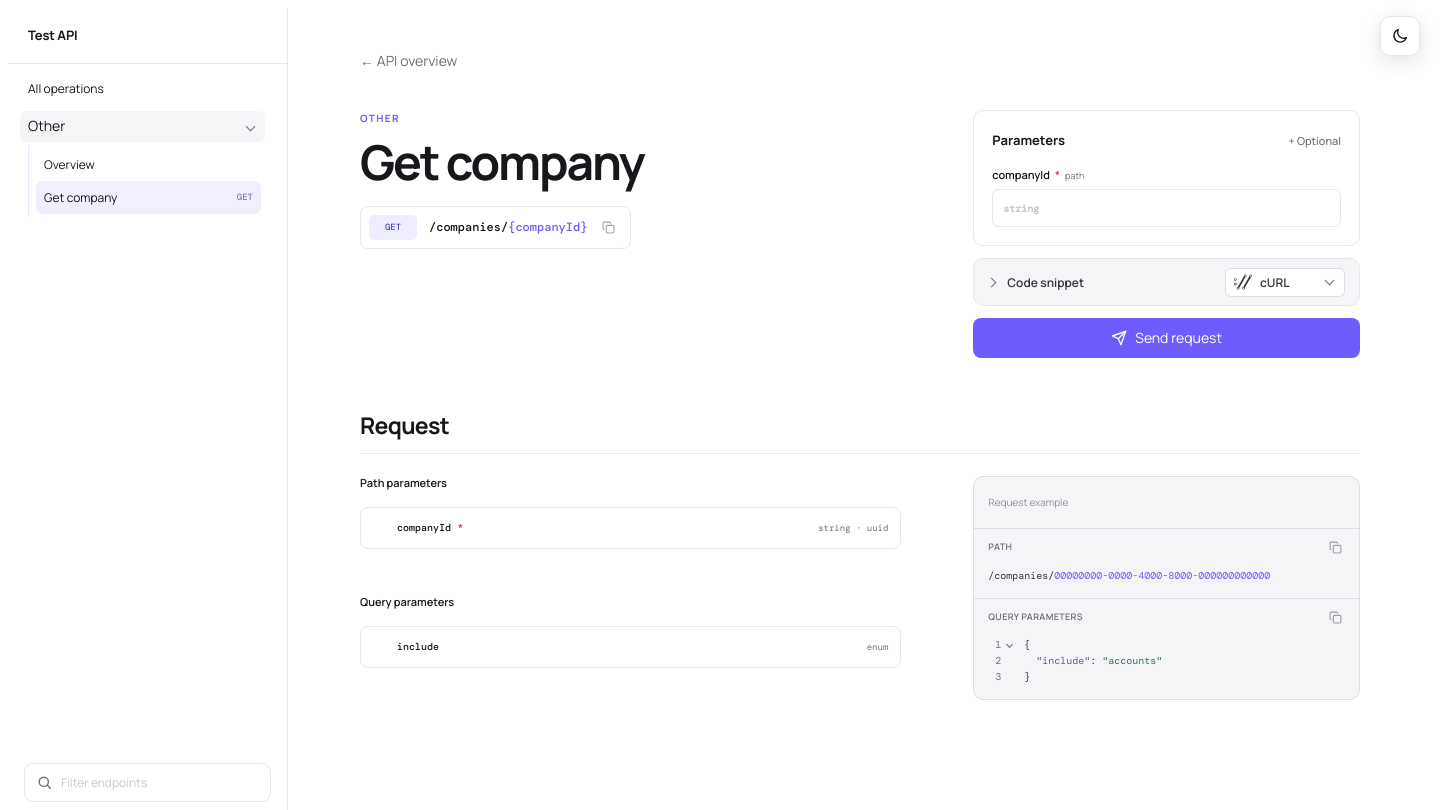
Test: endpoint parameter layout › uses schema explorers for path and query parameter documentation
Expected: the element named "Path parameters schema" is shown, x1=361 y1=508 x2=900 y2=548
Expected: the element named "Query parameters schema" is shown, x1=361 y1=627 x2=900 y2=667
Click the button "companyId * string · uuid".
click(424, 528)  # box x1=395 y1=508 x2=890 y2=548
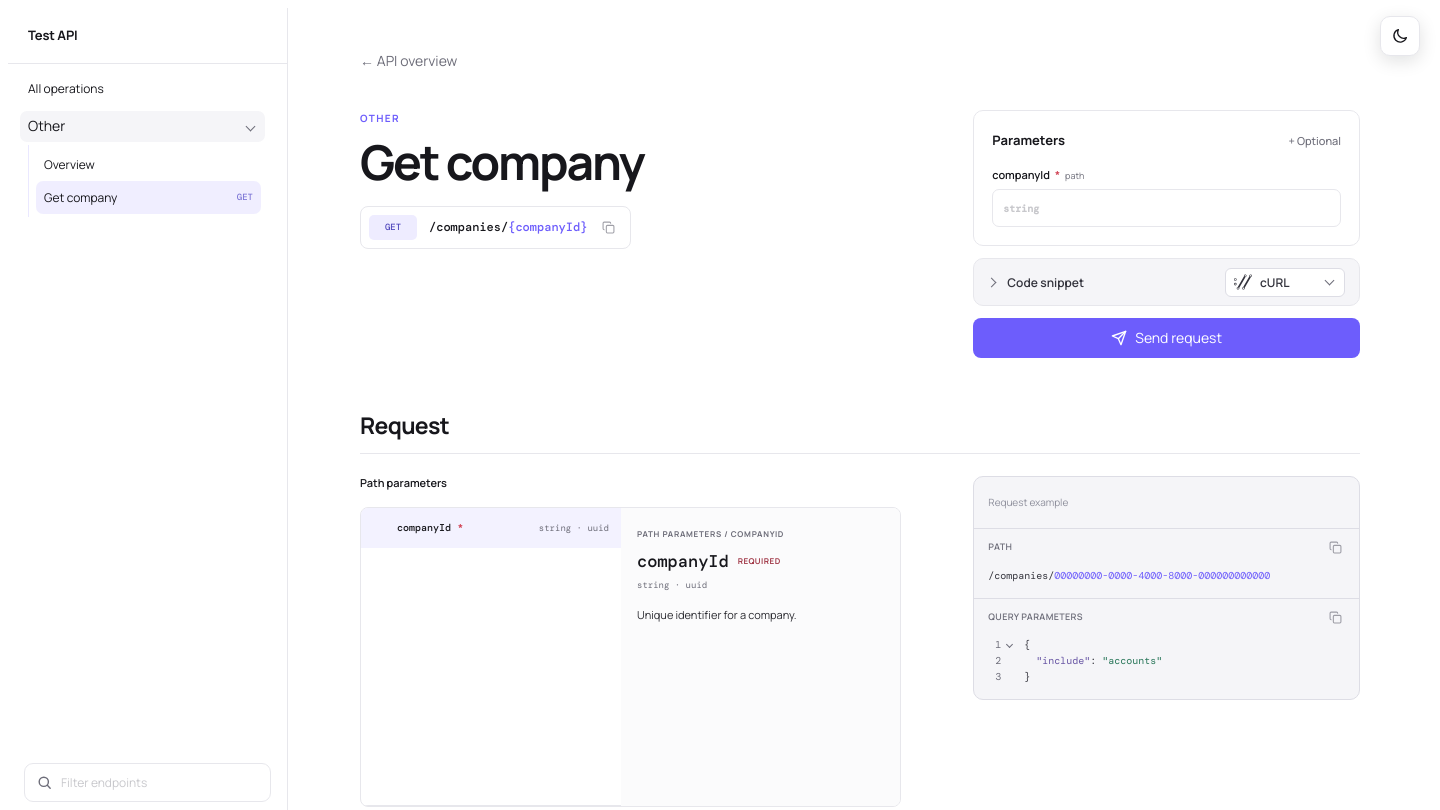
Now the text "Unique identifier for a company." is shown, box x1=637 y1=606 x2=797 y2=622
Click the button "companyId * string · uuid".
click(503, 528)  # box x1=395 y1=508 x2=611 y2=548
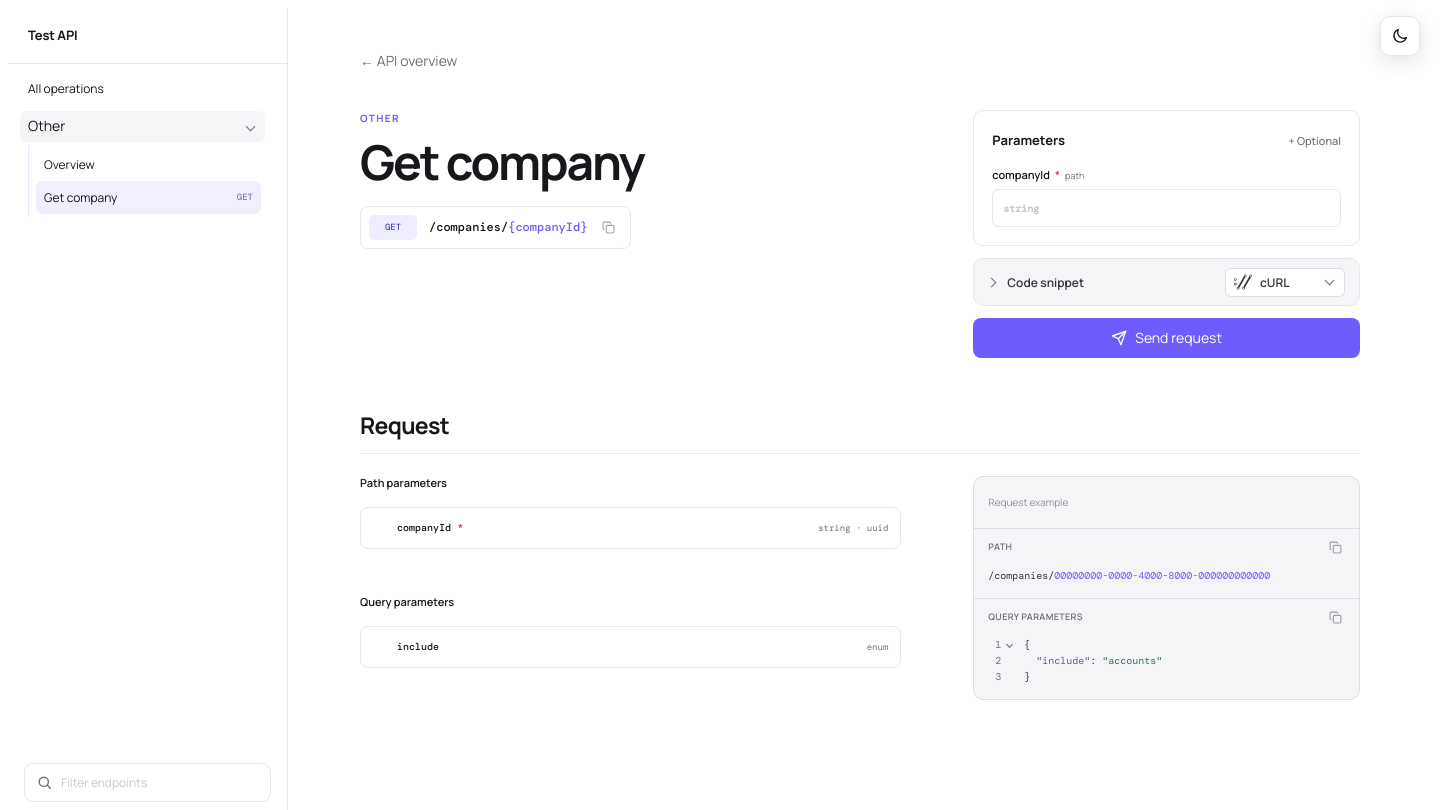
Now the text "Unique identifier for a company." is gone
Now the element with class "sp-schema-explorer-inspector" is gone
Click the button "include enum".
click(418, 647)  # box x1=395 y1=627 x2=890 y2=667
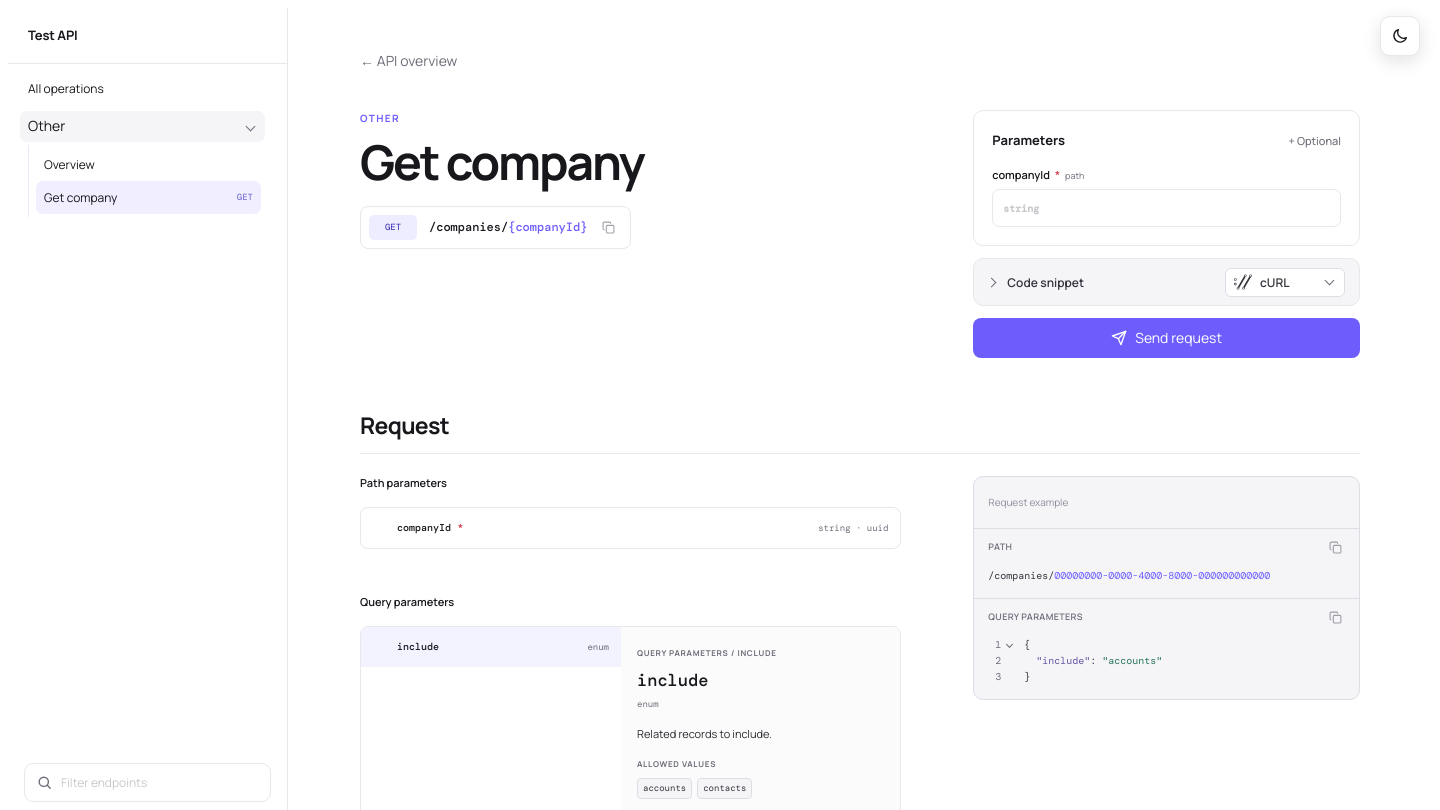
Now the text "Related records to include." is shown, box x1=637 y1=726 x2=772 y2=741
